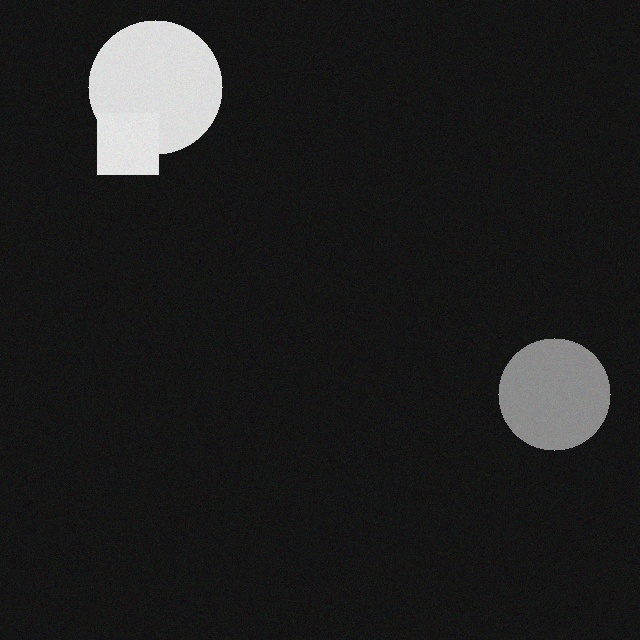circle: (82, 20, 216, 154), (492, 338, 604, 450)
square: (91, 113, 152, 174)
